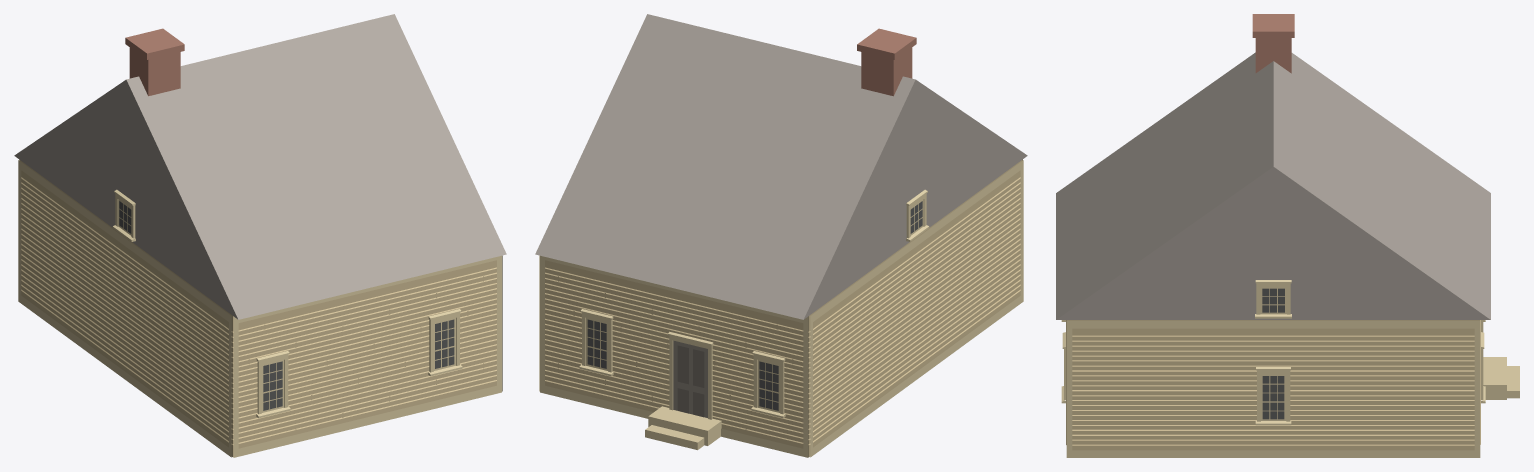
The model's file is recon_1835_blk_randolph_clark_d6_04__inferred_1835.glb.
3 renders of one model, left to right at view 1: azimuth 30°, elevation 25°; view 2: azimuth 150°, elevation 25°; view 3: azimuth 270°, elevation 25°, orthographic. The views are drawn at different scales.
Parts seen in each view (by area): view 1: recon_1835_blk_randolph_clark_d6_04__inferred_1835; view 2: recon_1835_blk_randolph_clark_d6_04__inferred_1835; view 3: recon_1835_blk_randolph_clark_d6_04__inferred_1835.
Boxes of the visible parts, box(x1,y1,x2,y2) form: recon_1835_blk_randolph_clark_d6_04__inferred_1835: box(14, 14, 506, 457); recon_1835_blk_randolph_clark_d6_04__inferred_1835: box(535, 14, 1027, 457); recon_1835_blk_randolph_clark_d6_04__inferred_1835: box(1056, 14, 1519, 457).
Size of the model in its own units: 7.21 by 8.24 by 10.78.
